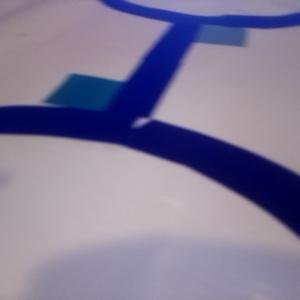bottom_right: (174, 16, 245, 47)
top_left: (44, 74, 148, 137)
